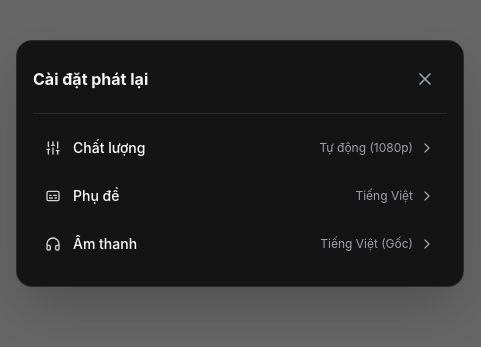
Scenario: UX2: Mobile Watch Page and Player Controls (ADR-045) › 1. PlayerSettingsSheet Component › navigates back to main menu with Back button
The width and height of the screenshot is (481, 347).
Click the button with test id "settings-row-quality": (109, 147) [33,126,447,170]
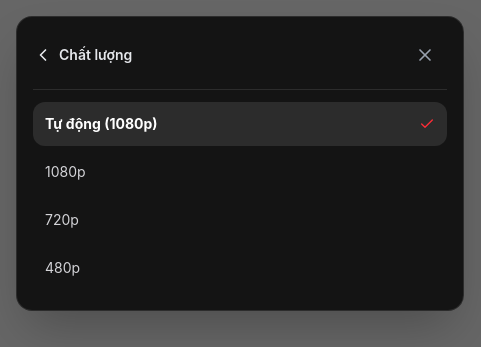
Click the button with test id "settings-back-btn": (83, 54) [33,32,132,76]
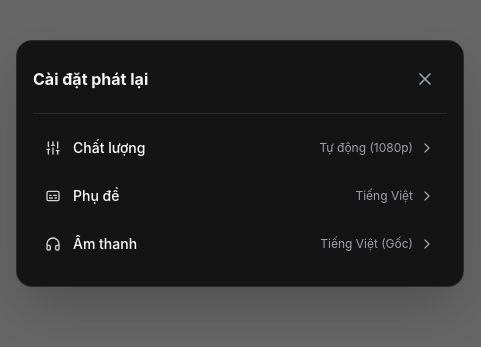
Result: the heading "Cài đặt phát lại" is shown at [33,66,148,90]
